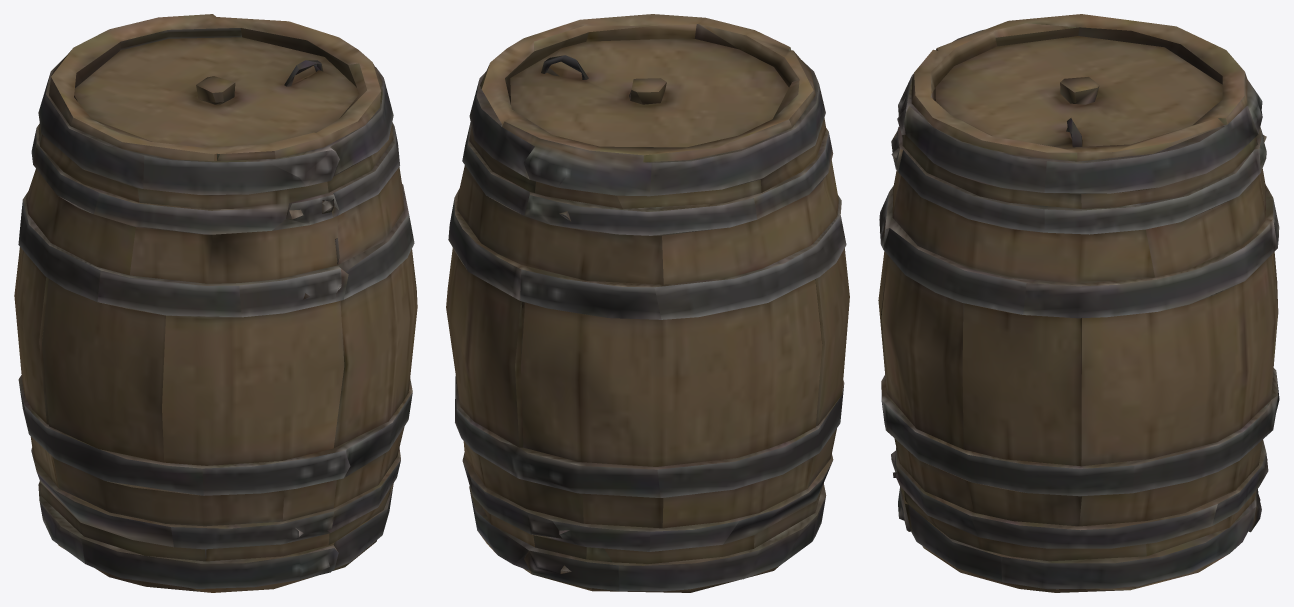
The model's file is barrel.glb.
The picture shows the model from 3 angles, left to right: view 1: azimuth 30°, elevation 25°; view 2: azimuth 150°, elevation 25°; view 3: azimuth 270°, elevation 25°; orthographic projection.
Parts seen in each view (by area): view 1: geometry_0; view 2: geometry_0; view 3: geometry_0.
Part boxes in pixels (x1,y1,x2,y2): geometry_0: (14,14,417,592); geometry_0: (446,14,849,592); geometry_0: (878,14,1279,592).
Size of the model in its own units: 1.48 by 1.8 by 1.47.
1 material, 1 textured.
